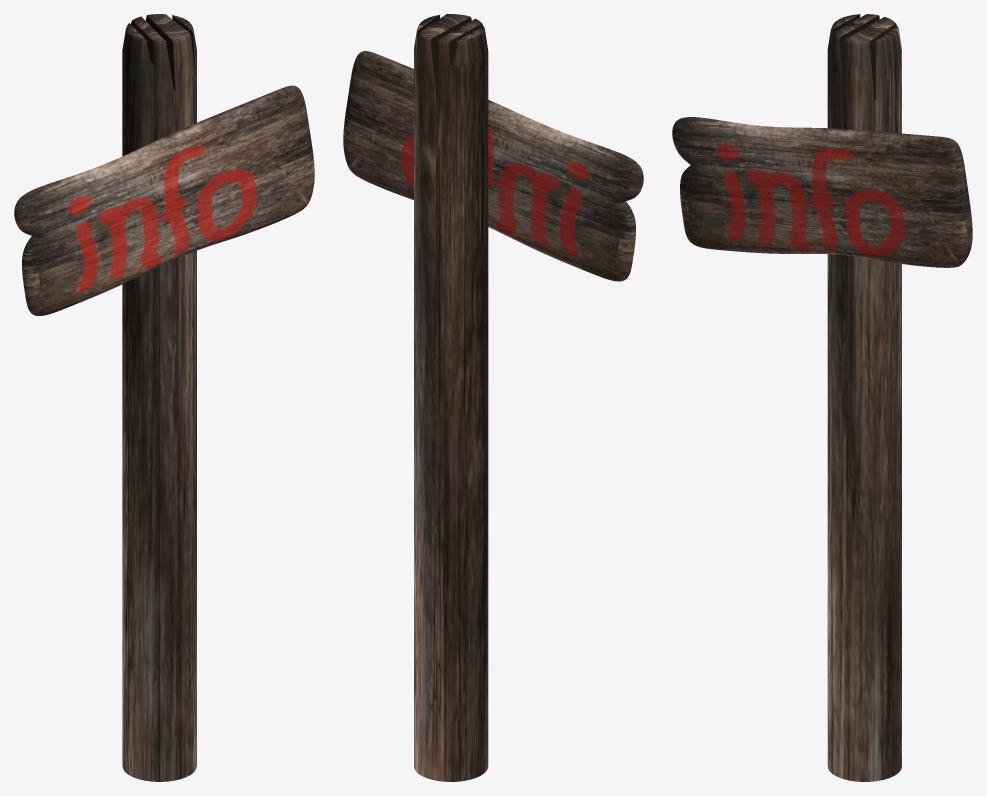
File: sign.glb
3 views of the same model, side by side, from view 1: azimuth 30°, elevation 25°; view 2: azimuth 150°, elevation 25°; view 3: azimuth 330°, elevation 25° (orthographic).
Parts seen in each view (by area): view 1: Cylinder, Cube; view 2: Cylinder, Cube; view 3: Cylinder, Cube.
Part boxes in pixels (left/top/right/bottom): Cylinder: left=122, top=14, right=196, bottom=781; Cube: left=14, top=85, right=314, bottom=315; Cylinder: left=414, top=14, right=488, bottom=781; Cube: left=343, top=51, right=643, bottom=281; Cylinder: left=827, top=14, right=901, bottom=781; Cube: left=672, top=117, right=972, bottom=267.
Bounding box in the file's own units: 1.62 × 3.83 × 0.4441.
2 materials, 2 textured.
